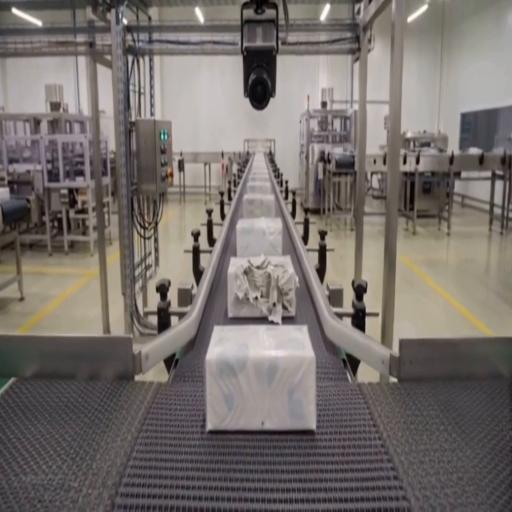defective: (206, 323, 316, 433), (226, 254, 298, 319)
good: (235, 216, 283, 258), (242, 192, 277, 220), (245, 176, 273, 198), (247, 156, 271, 177)
